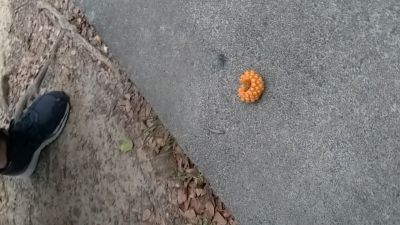eggs: (236, 68, 266, 105)
